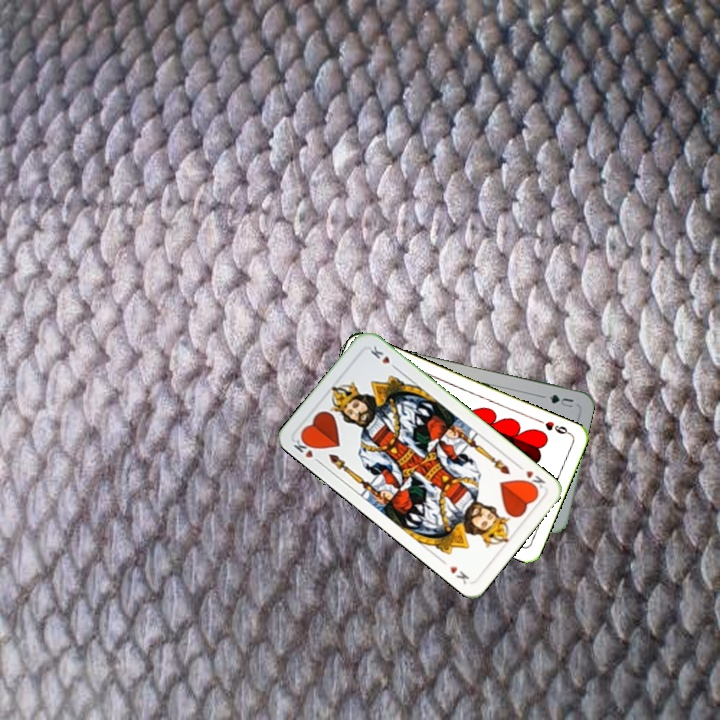GU: (545, 390, 576, 410)
H9: (535, 416, 573, 437)
HK: (289, 432, 324, 467), (520, 466, 548, 494)
